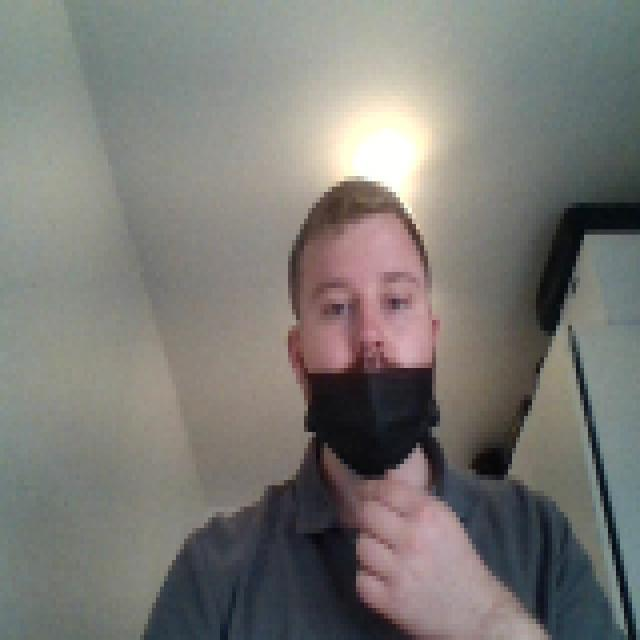hairnet: (268, 293, 452, 491)
